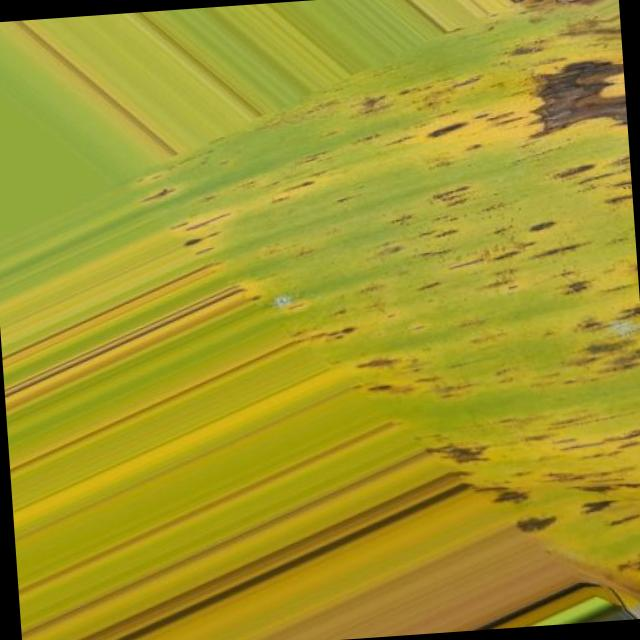Banana_Black_Sigatoka: (297, 193, 640, 553), (481, 7, 631, 192)
